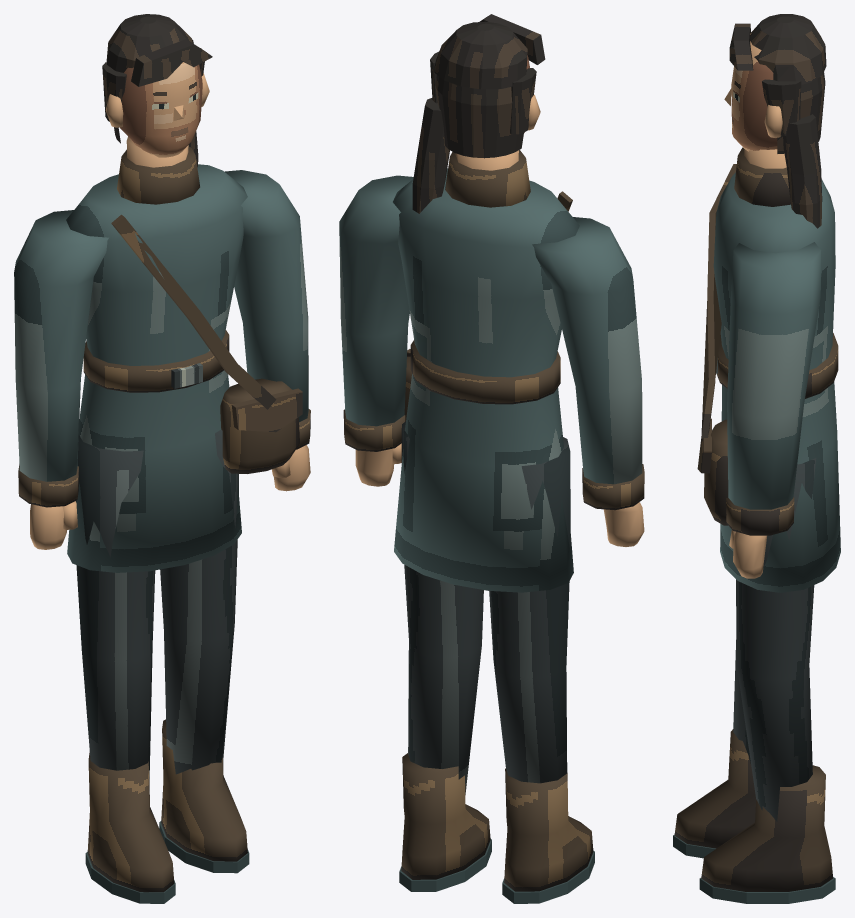
File: mara-quiet.glb
3 views of the same model, side by side, from view 1: azimuth 30°, elevation 25°; view 2: azimuth 150°, elevation 25°; view 3: azimuth 270°, elevation 25° (orthographic). The views are drawn at different scales.
Parts seen in each view (by area): view 1: mara-quiet runtime mesh; view 2: mara-quiet runtime mesh; view 3: mara-quiet runtime mesh.
Boxes of the visible parts, x1=… form: mara-quiet runtime mesh: x1=14, y1=14, x2=310, y2=903; mara-quiet runtime mesh: x1=339, y1=14, x2=644, y2=903; mara-quiet runtime mesh: x1=673, y1=14, x2=840, y2=903.
Size of the model in its own units: 0.602 by 1.7 by 0.3057.
Materials: 1 (1 with a texture image).
